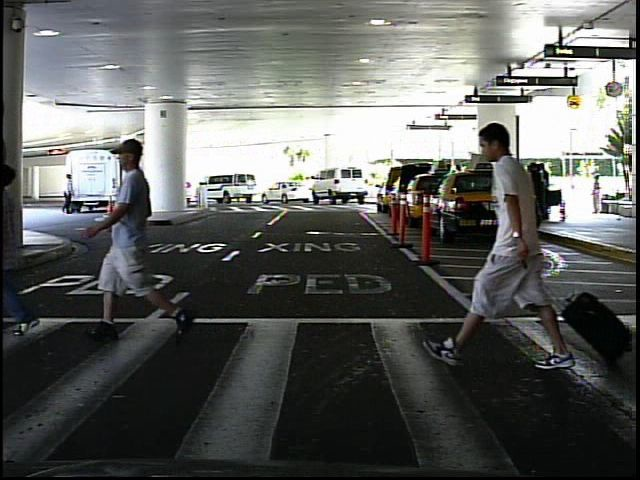person: (439, 112, 584, 378), (95, 130, 185, 343), (57, 170, 78, 220), (588, 172, 606, 217)
